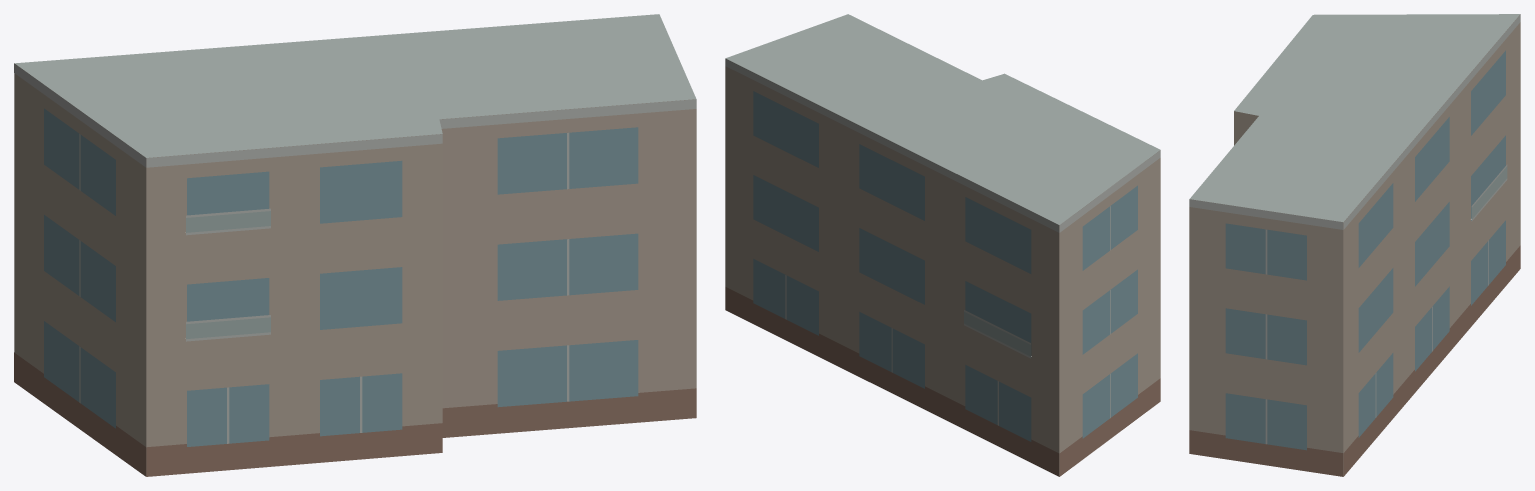
Rendered from survey-upis-33046412.glb.
The picture shows the model from 3 angles, left to right: view 1: azimuth 30°, elevation 25°; view 2: azimuth 150°, elevation 25°; view 3: azimuth 270°, elevation 25°; orthographic projection. The views are drawn at different scales.
Parts seen in each view (by area): view 1: survey-upis-33046412.tmp; view 2: survey-upis-33046412.tmp; view 3: survey-upis-33046412.tmp.
Part boxes in pixels (left/top/right/bottom): survey-upis-33046412.tmp: left=14, top=14, right=696, bottom=476; survey-upis-33046412.tmp: left=725, top=14, right=1160, bottom=476; survey-upis-33046412.tmp: left=1189, top=14, right=1520, bottom=476.
Bounding box in the file's own units: 13.95 × 7.95 × 9.38.
